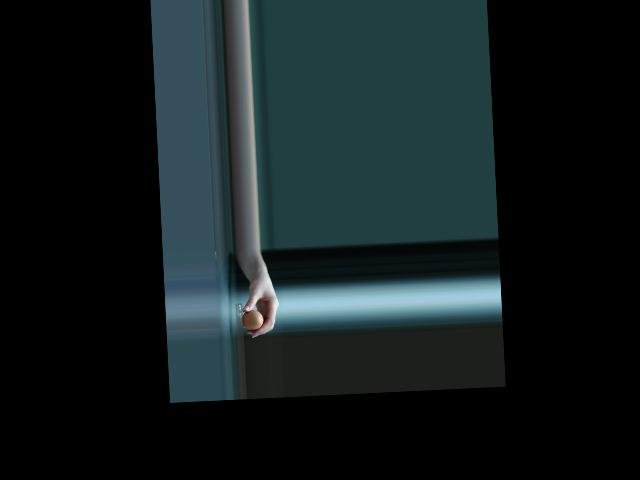egg: (240, 309, 263, 331)
